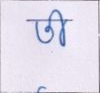i_matra: (52, 9, 69, 47)
